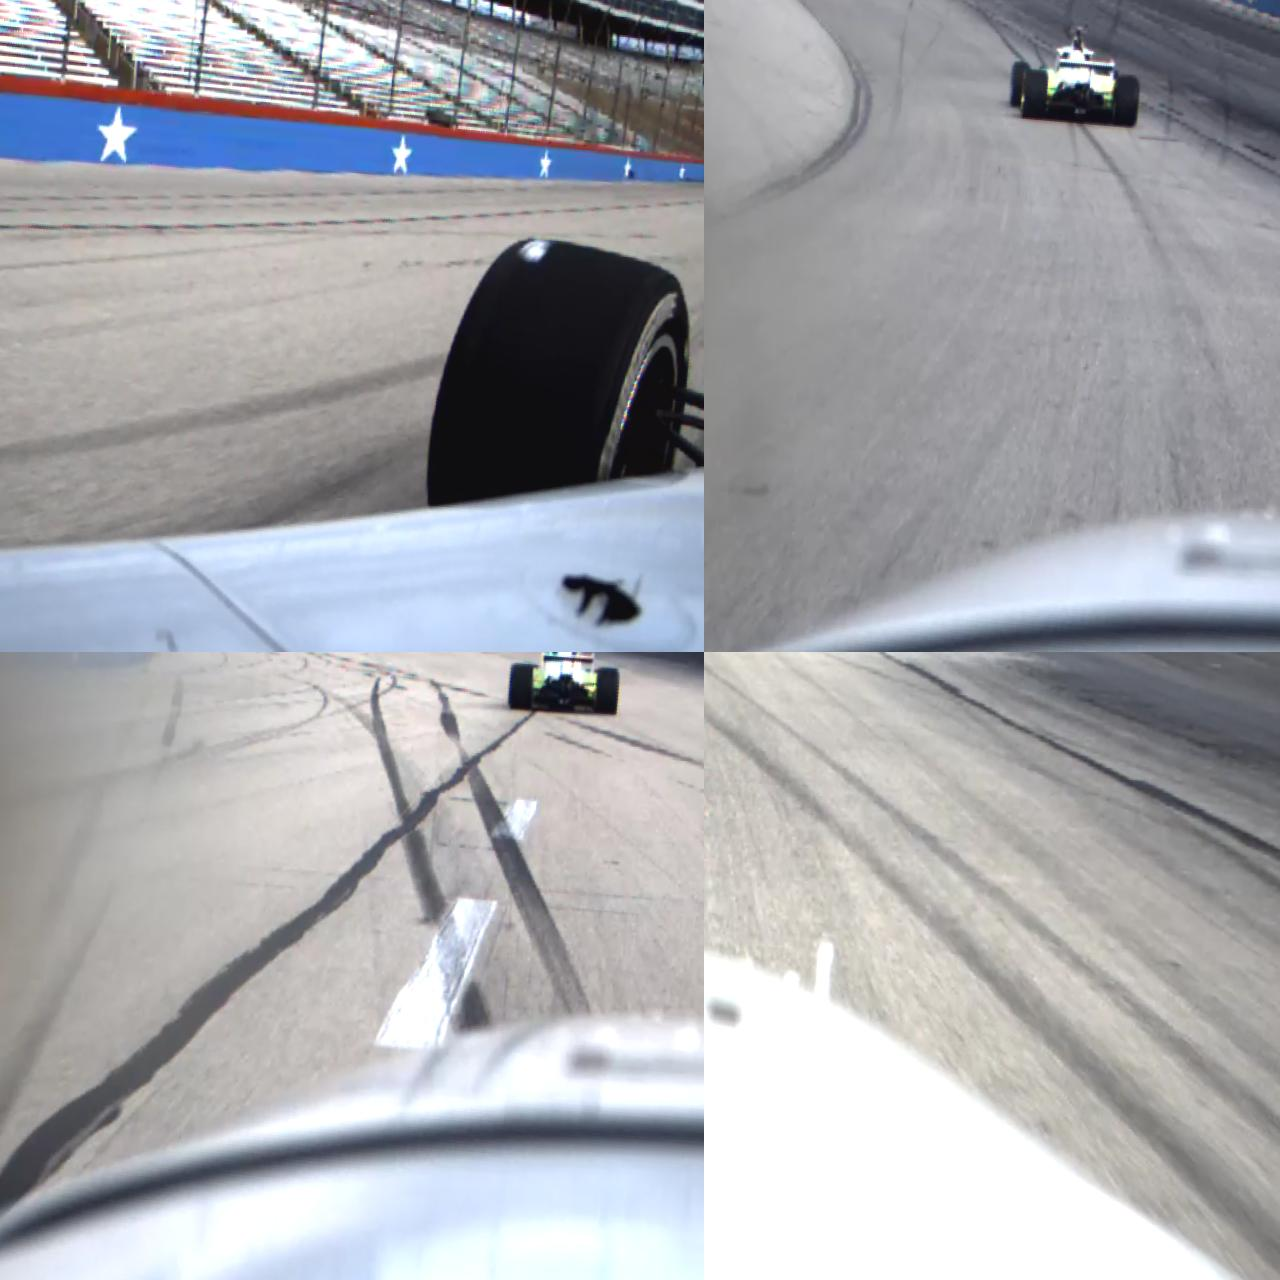AV: (1008, 19, 1145, 130), (506, 652, 624, 720)
Wheel: (422, 230, 701, 535), (1114, 75, 1142, 129), (1020, 69, 1049, 121), (508, 662, 535, 712), (593, 667, 620, 715), (1009, 62, 1030, 108)
